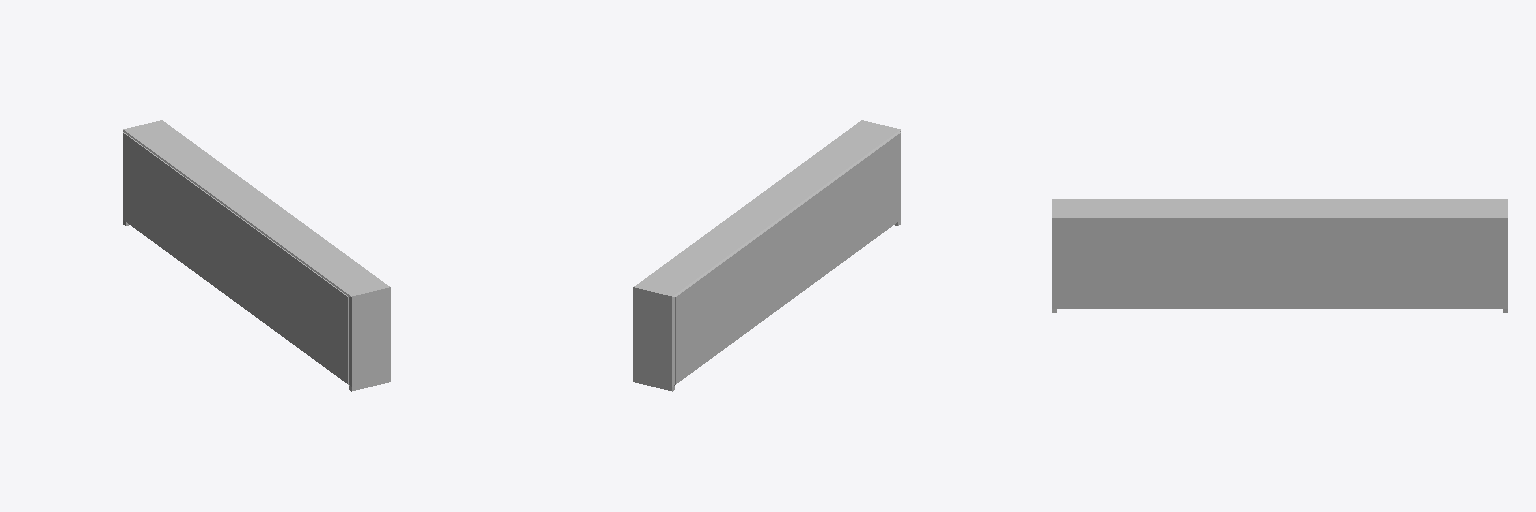
The model's file is longcupboard.obj.
3 renders of one model, left to right at view 1: azimuth 30°, elevation 25°; view 2: azimuth 150°, elevation 25°; view 3: azimuth 270°, elevation 25°, orthographic.
Visible parts, largest first — view 1: 立方体.038; view 2: 立方体.038; view 3: 立方体.038.
Boxes of the visible parts, x1,y1,x2,y2 form: 立方体.038: [123, 120, 390, 391]; 立方体.038: [633, 120, 900, 391]; 立方体.038: [1052, 199, 1507, 312].
Bounding box in the file's own units: 0.5903 × 1.32 × 5.75.